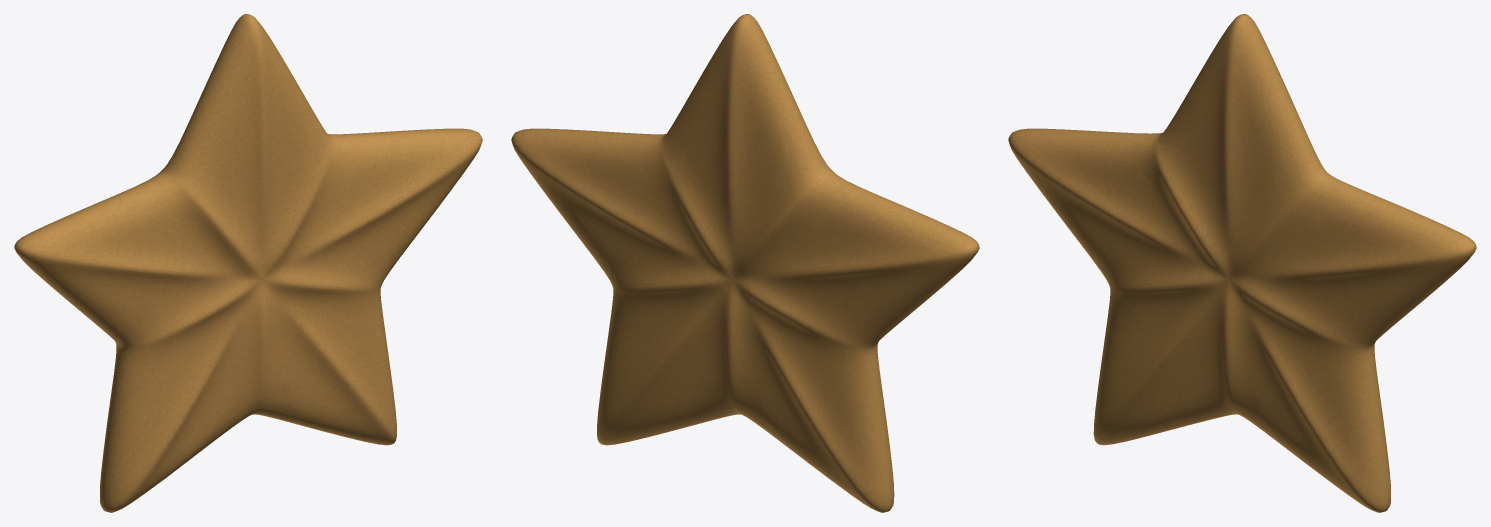
3 views of the same model, side by side, from view 1: azimuth 30°, elevation 25°; view 2: azimuth 150°, elevation 25°; view 3: azimuth 330°, elevation 25° (orthographic).
Visible parts, largest first — view 1: Star; view 2: Star; view 3: Star.
Boxes of the visible parts, x1=… form: Star: x1=14, y1=14, x2=482, y2=512; Star: x1=511, y1=14, x2=979, y2=512; Star: x1=1008, y1=14, x2=1476, y2=512.
Bounding box in the file's own units: 1.34 × 1.28 × 0.1766.
1 material, 1 textured.
